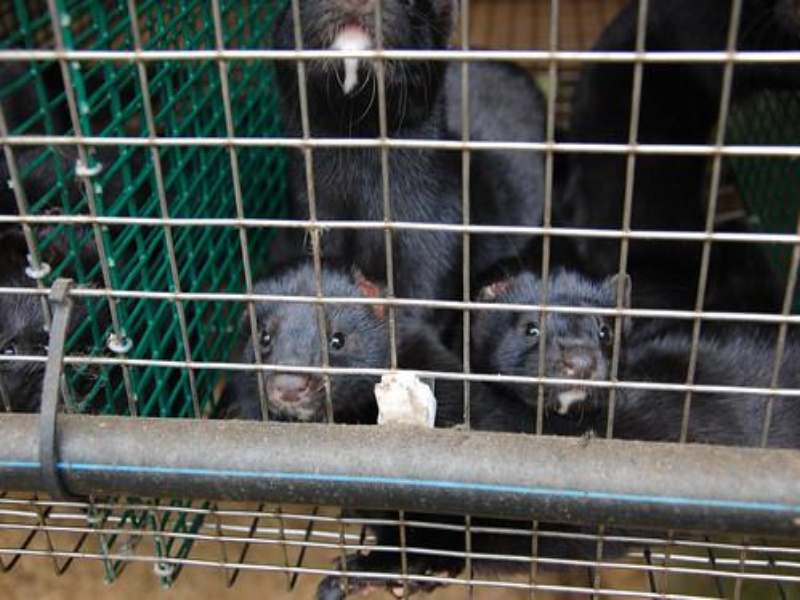minkish: (277, 1, 550, 296), (229, 276, 478, 439), (468, 273, 638, 423)
